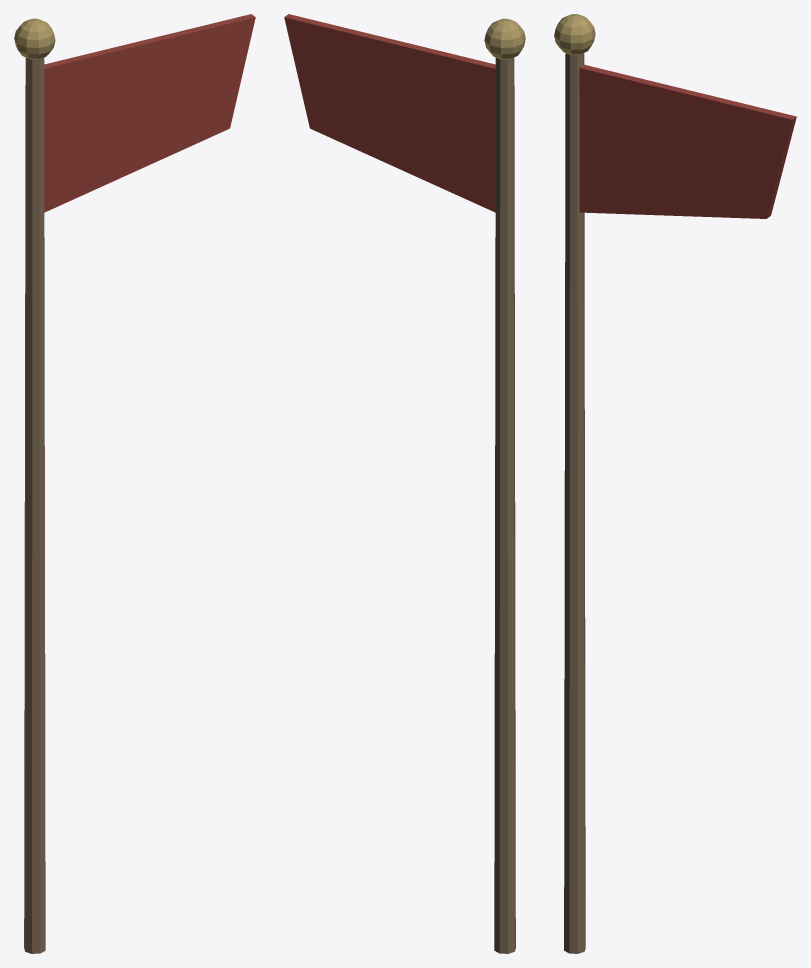
Rendered from LegendBanner.fbx.
3 renders of one model, left to right at view 1: azimuth 30°, elevation 25°; view 2: azimuth 150°, elevation 25°; view 3: azimuth 330°, elevation 25°, orthographic.
Visible parts, largest first — view 1: LegendBanner; view 2: LegendBanner; view 3: LegendBanner.
Part boxes in pixels (box(x1,y1,x2,y2)): LegendBanner: box(14, 14, 255, 953); LegendBanner: box(284, 14, 525, 953); LegendBanner: box(554, 14, 796, 953).
Bounding box in the file's own units: 18.4 × 69 × 2.66.
